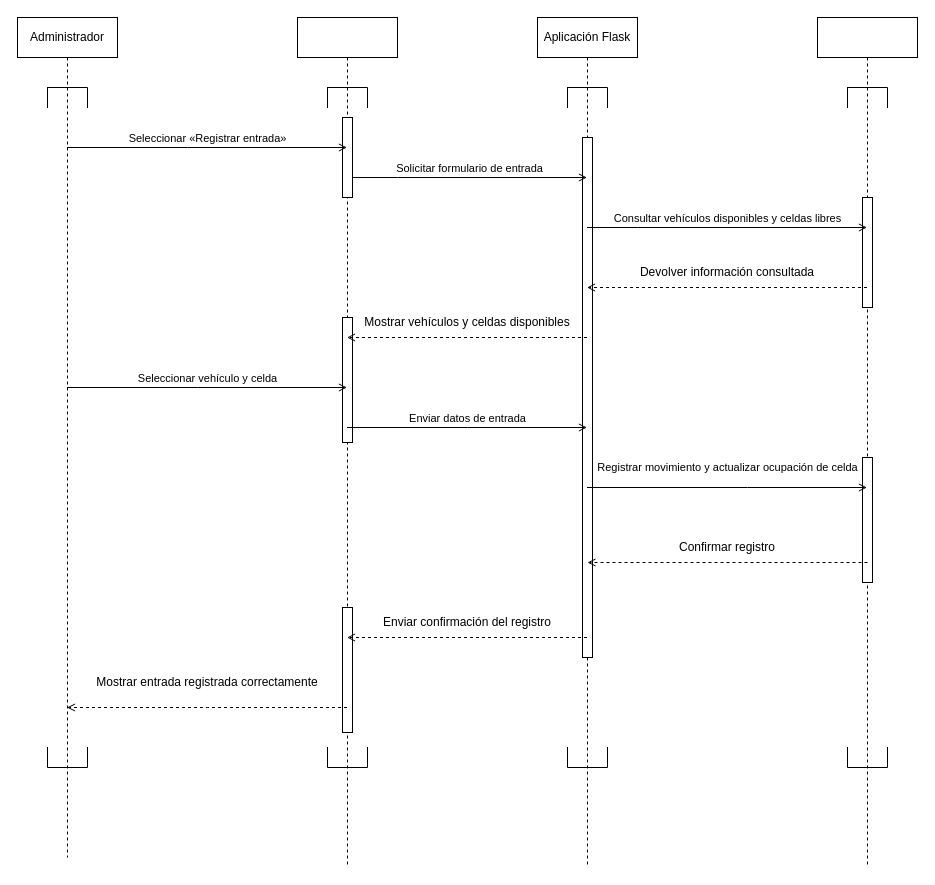
This 935x885 diagram has some shape labels left out. The centre of each missing label's shape, as x and y in pixels:
Base de datos PostgreSQL: the point at 867,442
Interfaz del sistema: the point at 347,442
